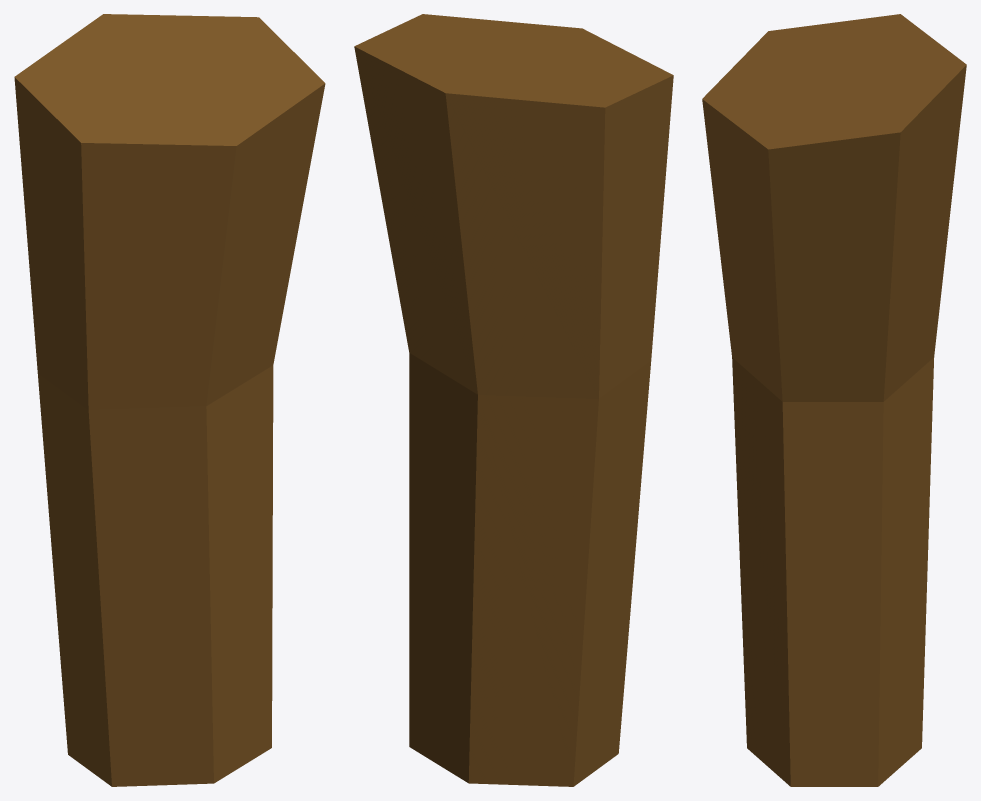
Rendered from wooden_handle.fbx.
3 renders of one model, left to right at view 1: azimuth 30°, elevation 25°; view 2: azimuth 150°, elevation 25°; view 3: azimuth 270°, elevation 25°, orthographic. The views are drawn at different scales.
Visible parts, largest first — view 1: Cylinder.005; view 2: Cylinder.005; view 3: Cylinder.005.
Boxes of the visible parts, x1,y1,x2,y2 form: Cylinder.005: (14,14,325,786); Cylinder.005: (354,14,673,786); Cylinder.005: (702,14,966,786).
Bounding box in the file's own units: 12.35 × 33.24 × 11.66.
